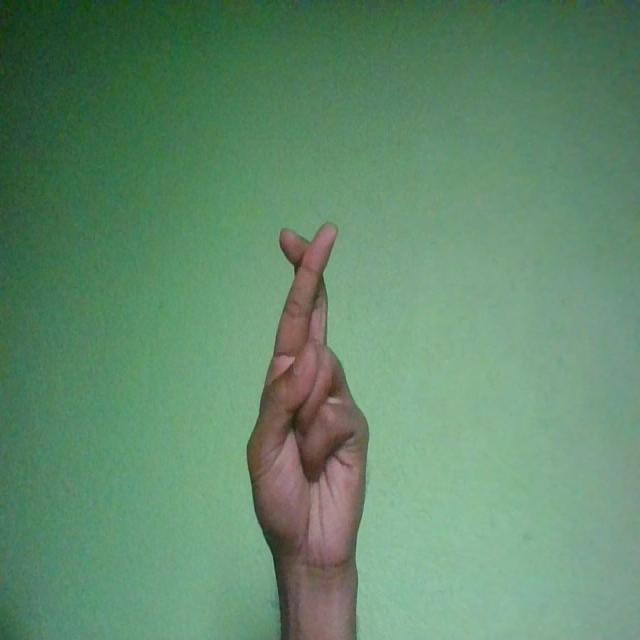Ok: (246, 222, 368, 576)
